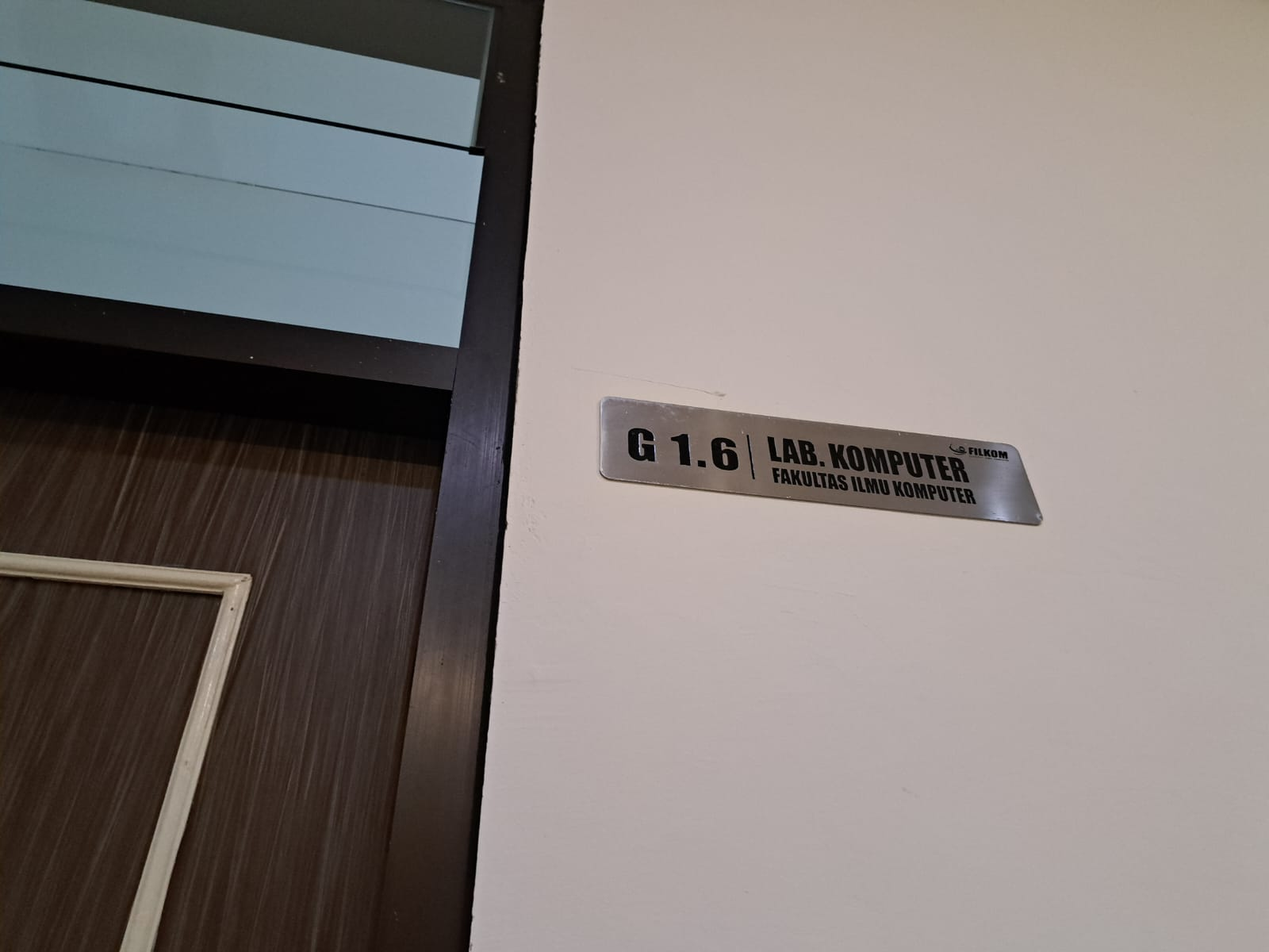ruangan: (587, 384, 1053, 535)
